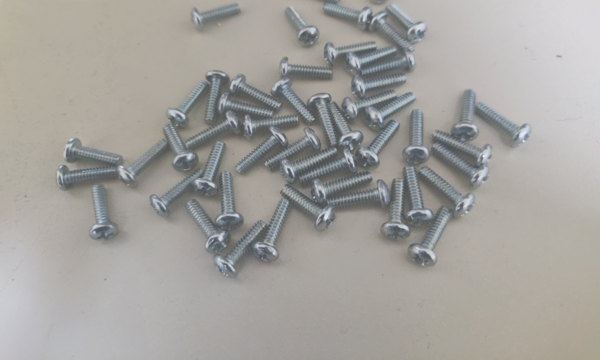shortscrew: (213, 221, 269, 280), (418, 166, 476, 218), (149, 169, 204, 218), (280, 184, 336, 232), (264, 127, 322, 173), (117, 139, 170, 189), (408, 207, 452, 267), (431, 143, 490, 187), (476, 102, 532, 148), (252, 198, 292, 262), (235, 127, 289, 174), (186, 200, 231, 254), (297, 148, 359, 187), (186, 111, 243, 151), (357, 120, 401, 171), (433, 129, 492, 167), (186, 111, 243, 150), (280, 147, 339, 183), (271, 78, 316, 125), (311, 172, 373, 206), (166, 81, 210, 128), (364, 93, 418, 131), (230, 74, 282, 112), (327, 180, 391, 210), (192, 141, 226, 197), (370, 12, 415, 54), (381, 179, 411, 241), (162, 123, 199, 173), (328, 101, 364, 152), (64, 138, 123, 168), (342, 90, 398, 121), (56, 164, 119, 191), (215, 172, 244, 230), (386, 3, 427, 44), (306, 94, 337, 148), (360, 50, 417, 79), (89, 186, 118, 242), (191, 2, 242, 33), (243, 113, 301, 140), (403, 109, 430, 166), (285, 7, 320, 48), (352, 73, 407, 99), (452, 90, 479, 142), (324, 41, 378, 67), (205, 70, 230, 124), (324, 3, 372, 31), (218, 94, 274, 118), (279, 57, 333, 81), (295, 0, 341, 5), (369, 0, 391, 5)
